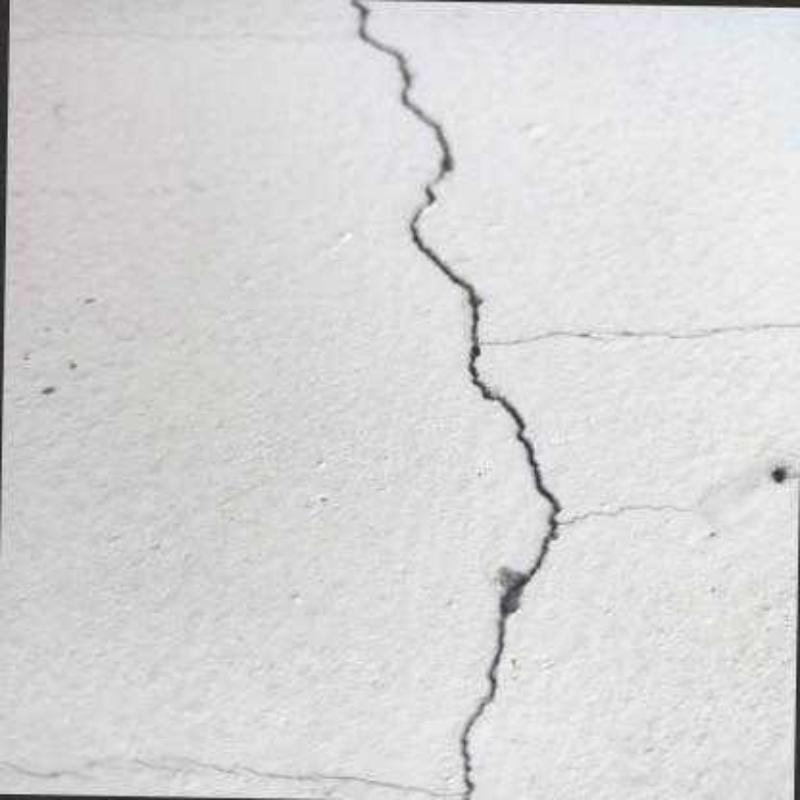pothole: (353, 1, 561, 799), (0, 756, 462, 798), (481, 323, 798, 346), (558, 504, 696, 527)
